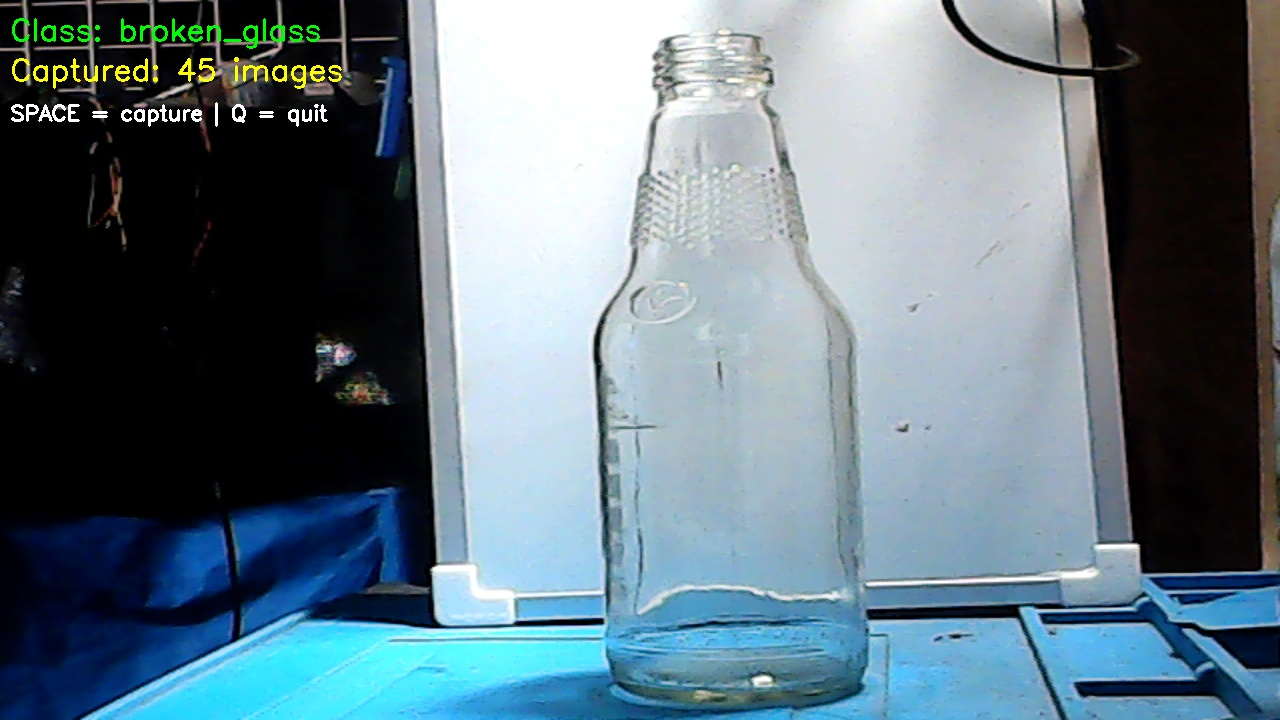broken_glass: (564, 12, 869, 720)
